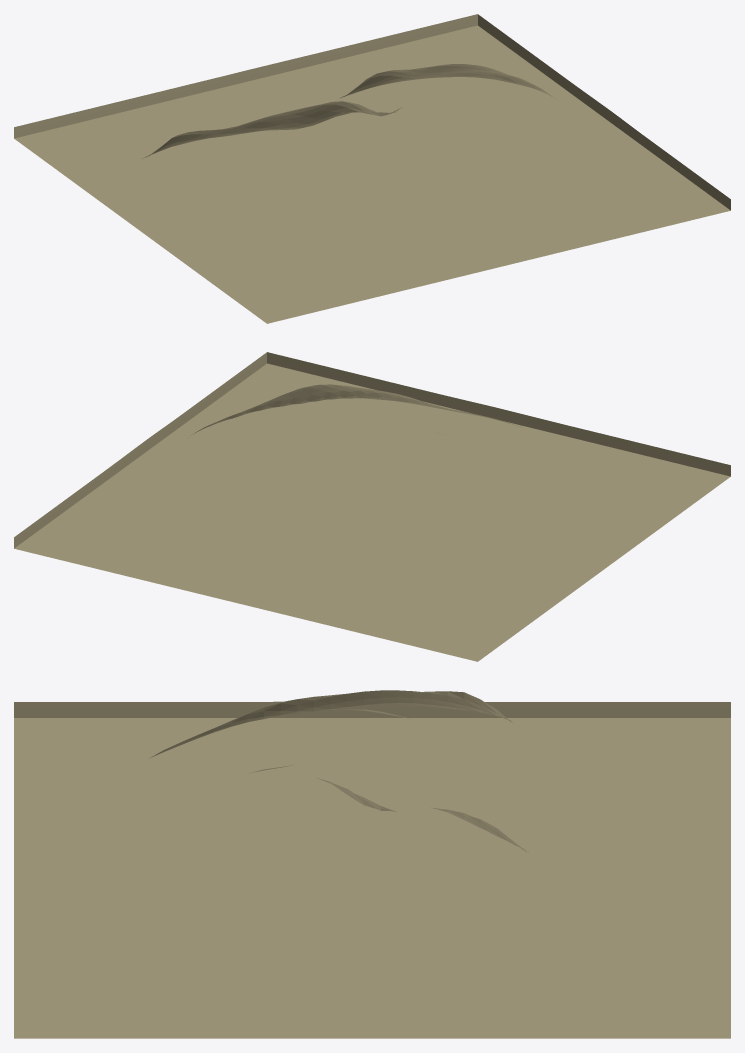
Rendered from mountain_looking_sand_mound_scan.glb.
3 renders of one model, top to bottom at view 1: azimuth 30°, elevation 25°; view 2: azimuth 150°, elevation 25°; view 3: azimuth 270°, elevation 25°, orthographic. The views are drawn at different scales.
Visible parts, largest first — view 1: world; view 2: world; view 3: world.
Boxes of the visible parts, bbox=[...] form: world: bbox=[14, 14, 730, 323]; world: bbox=[14, 352, 730, 661]; world: bbox=[14, 690, 730, 1038].
Size of the model in its own units: 11.96 by 2.19 by 11.3.
